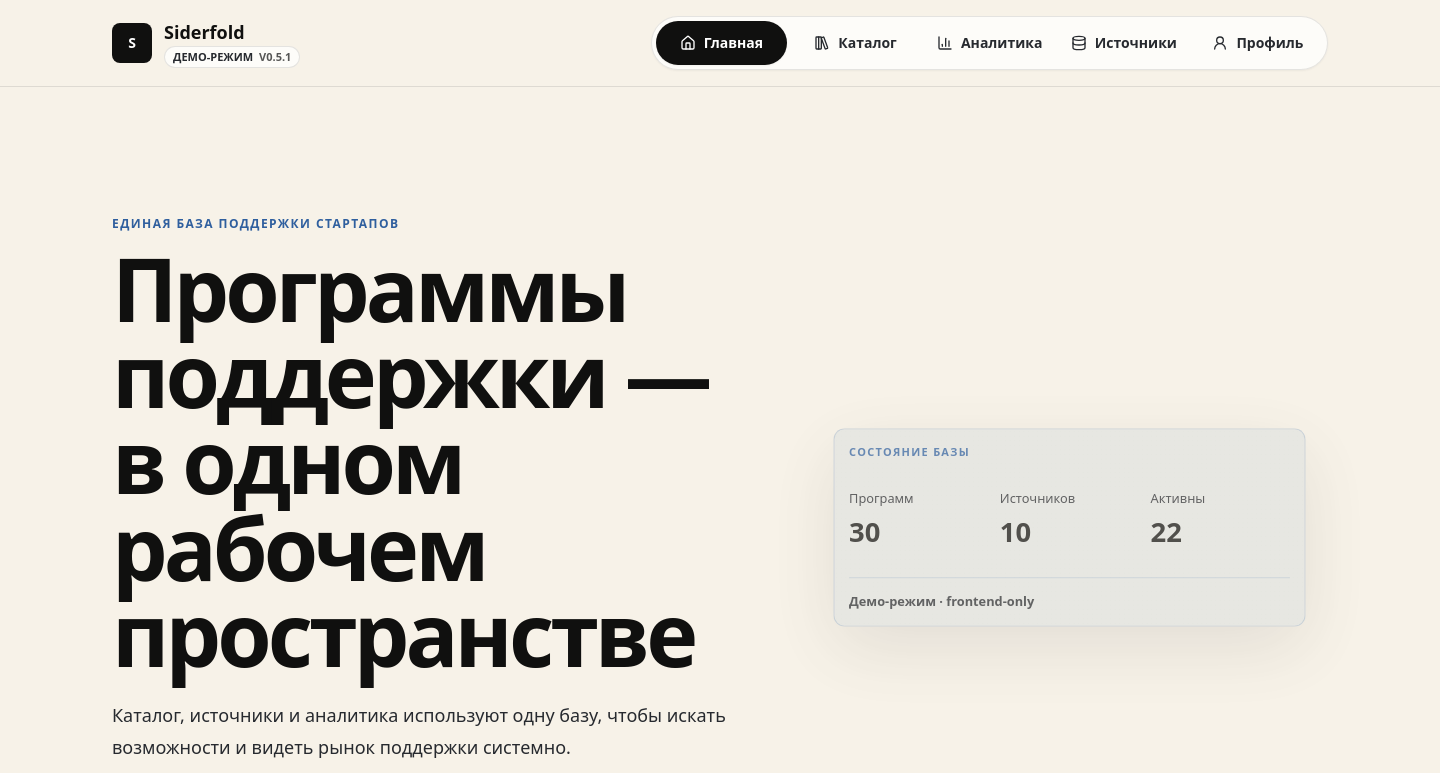
Test: App navigation › renders clickable Siderfold brand and primary navigation labels
Click the tab "Каталог": (856, 43) left=790, top=21, right=921, bottom=65
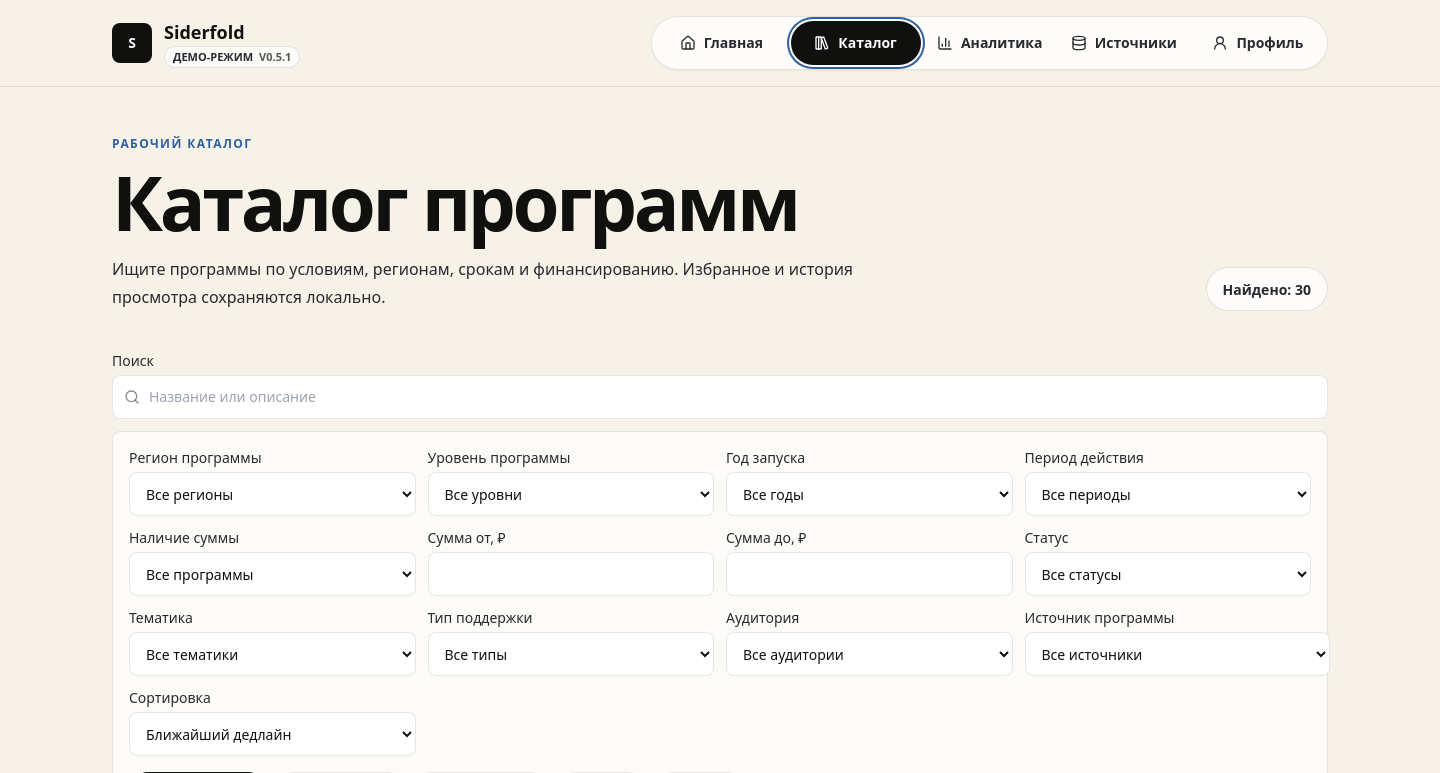
Now the heading "Каталог программ" is shown, box left=112, top=165, right=894, bottom=240
Click the button with aria-label "Siderfold - на главную": (206, 43) left=112, top=18, right=300, bottom=68
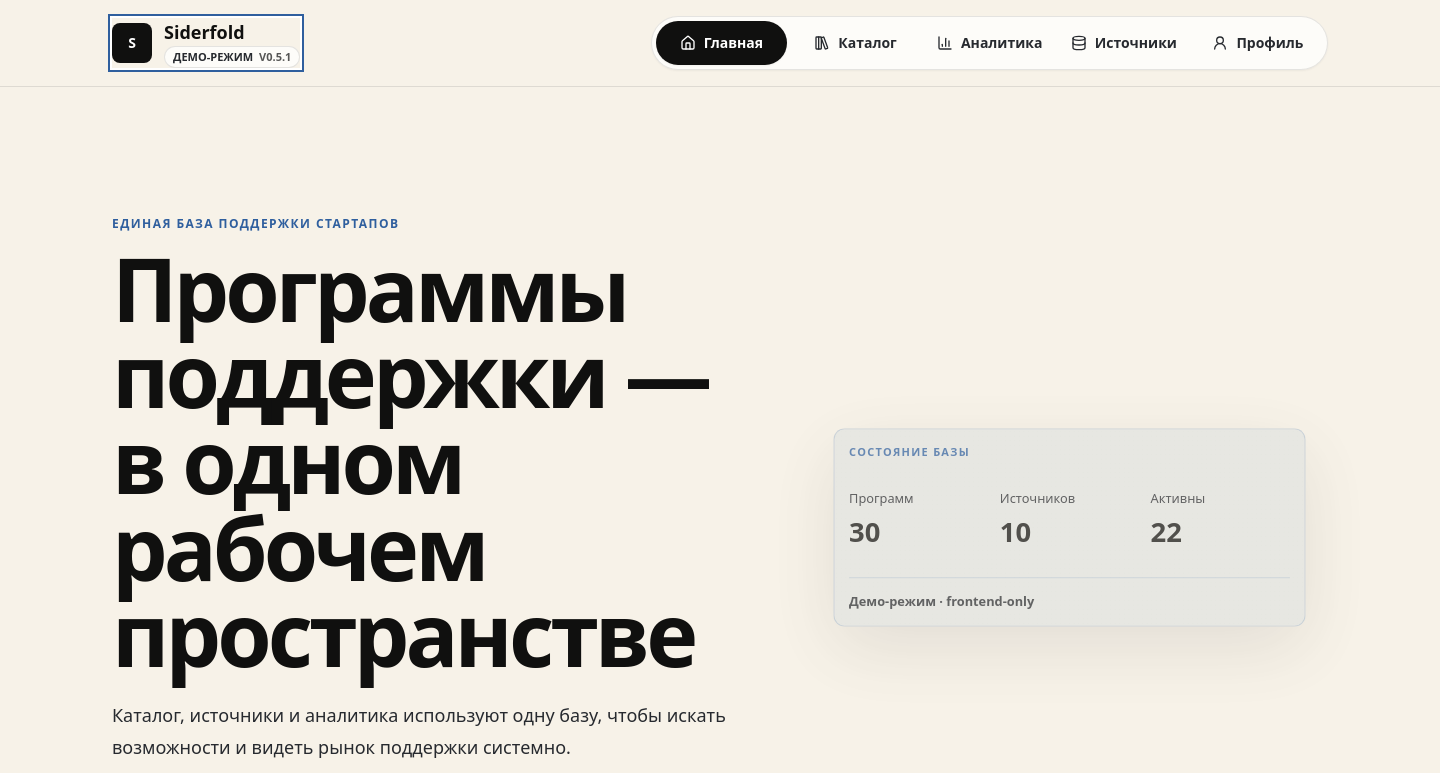
Expected: the tab "Главная" is shown, left=656, top=21, right=786, bottom=65
Now the heading "Программы поддержки — в одном рабочем пространстве" is shown, box left=112, top=245, right=770, bottom=676
